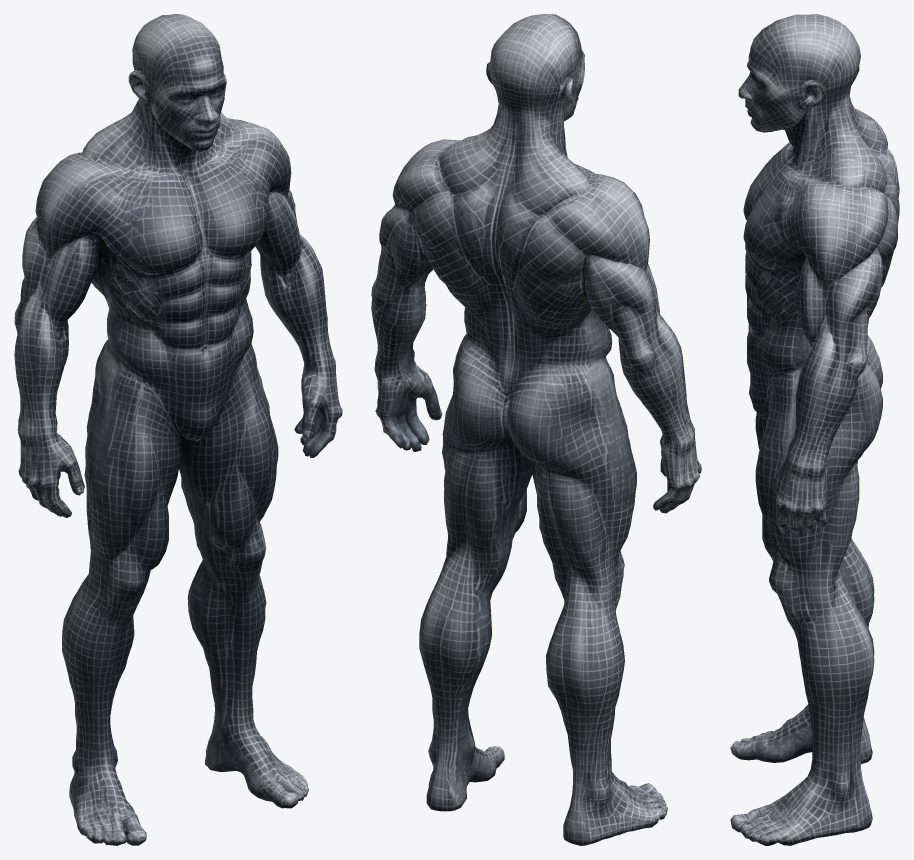
File: humanoid+3d+model.glb
3 views of the same model, side by side, from view 1: azimuth 30°, elevation 25°; view 2: azimuth 150°, elevation 25°; view 3: azimuth 270°, elevation 25° (orthographic).
Parts seen in each view (by area): view 1: tripo_node_90bb7f0e-585d-4687-9f8a-162197c8fb27; view 2: tripo_node_90bb7f0e-585d-4687-9f8a-162197c8fb27; view 3: tripo_node_90bb7f0e-585d-4687-9f8a-162197c8fb27.
Part boxes in pixels (x1,y1,x2,y2): tripo_node_90bb7f0e-585d-4687-9f8a-162197c8fb27: (14, 14, 342, 845); tripo_node_90bb7f0e-585d-4687-9f8a-162197c8fb27: (371, 14, 701, 845); tripo_node_90bb7f0e-585d-4687-9f8a-162197c8fb27: (730, 14, 899, 845).
Size of the model in its own units: 0.4074 by 0.9773 by 0.1932.
Materials: 1 (1 with a texture image).
